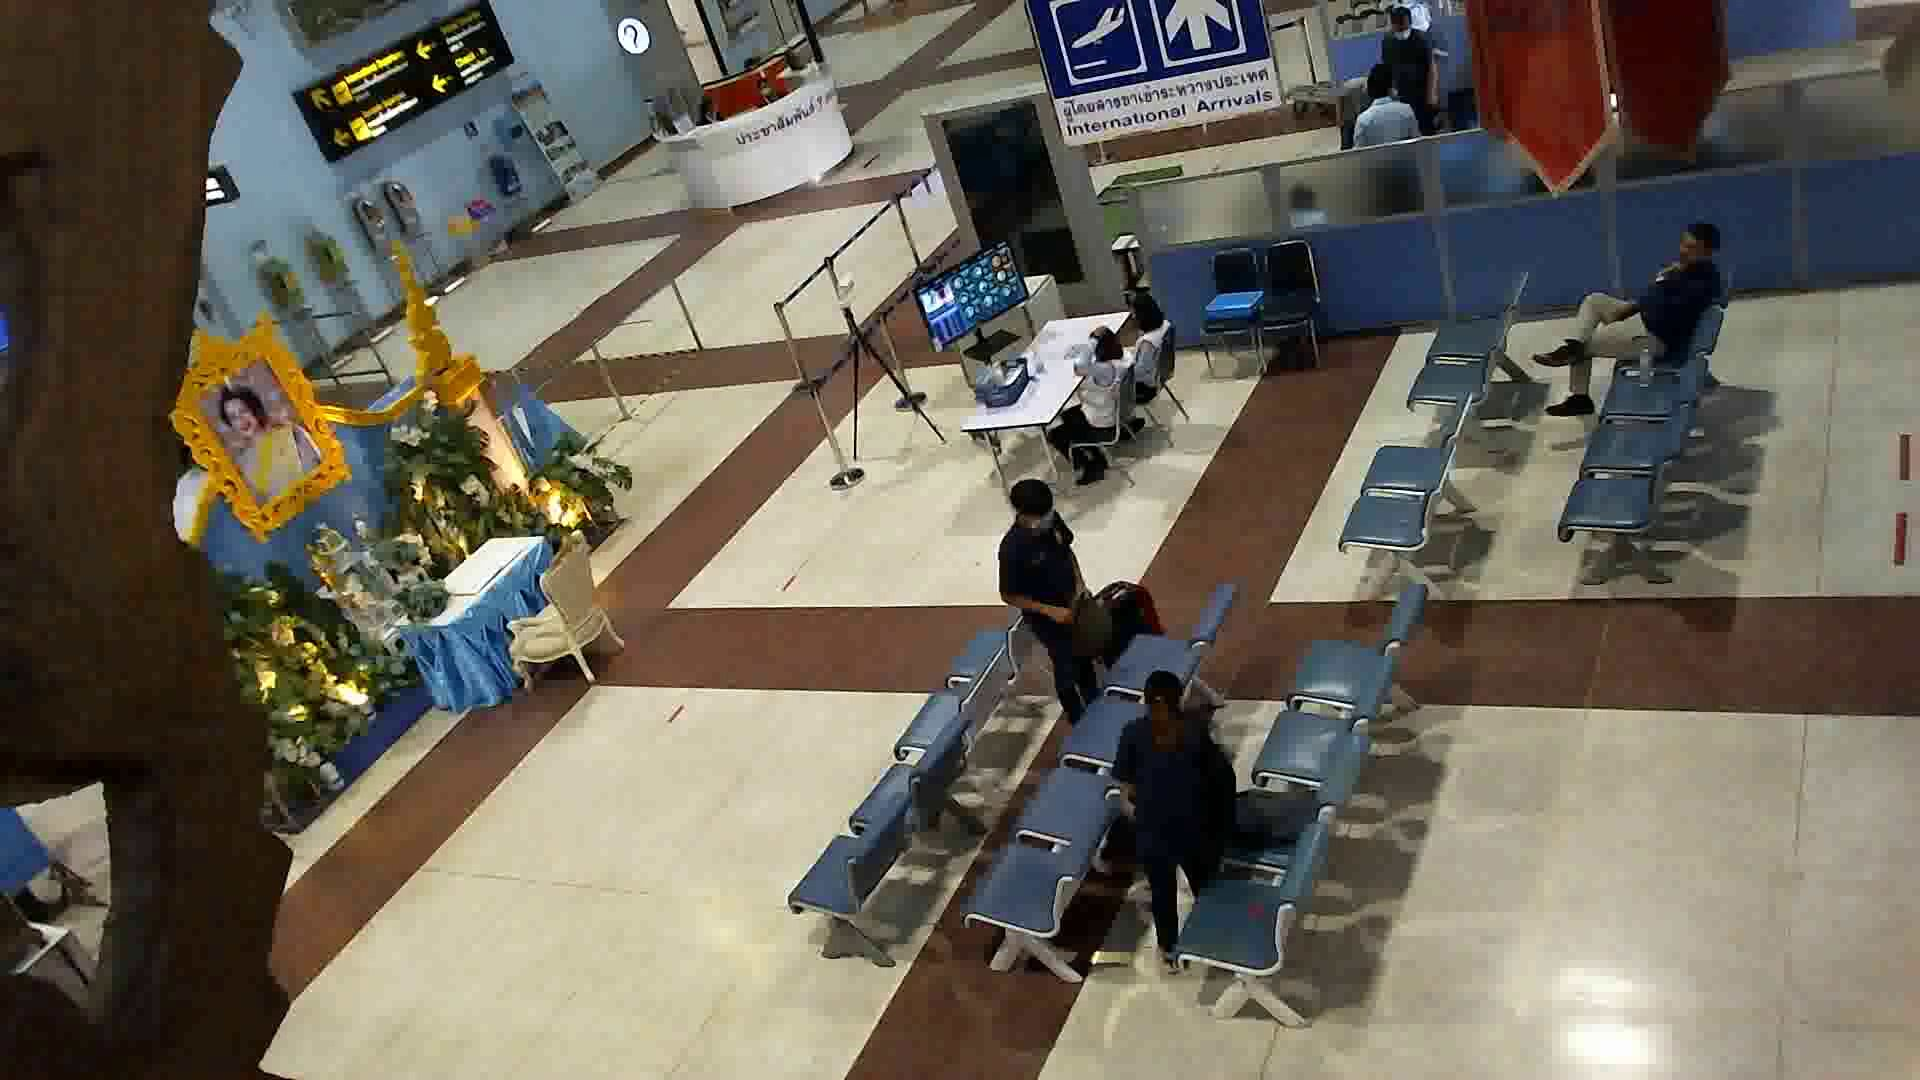backpack: (1228, 784, 1326, 855), (1068, 595, 1114, 665)
luggage: (1091, 570, 1166, 676)
people: (1116, 659, 1237, 995), (1549, 211, 1735, 424), (987, 461, 1106, 740), (1039, 324, 1131, 486), (1112, 286, 1183, 422)
